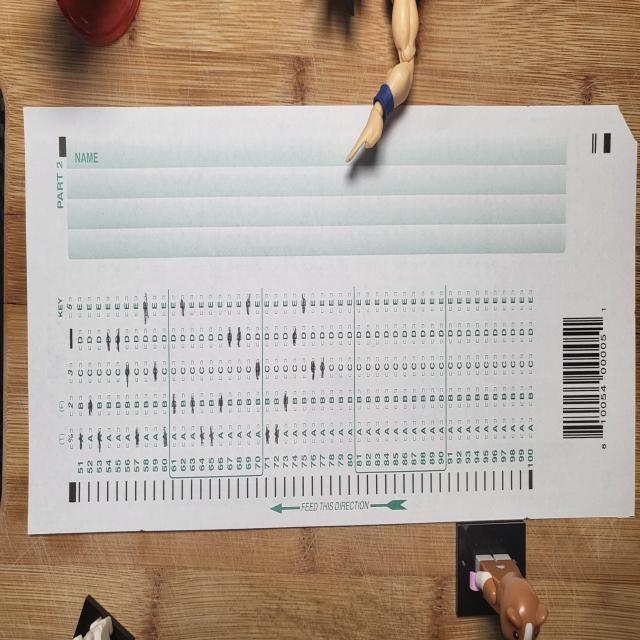scantron_back: (24, 103, 638, 532)
